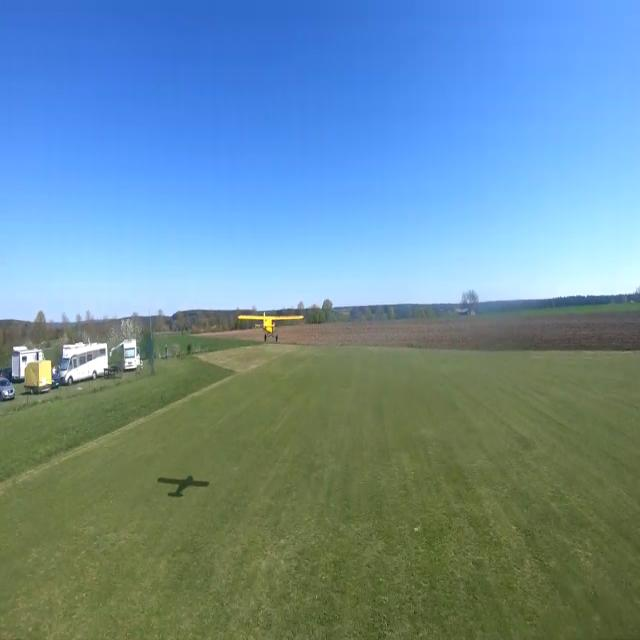iha: (267, 307, 271, 343)
